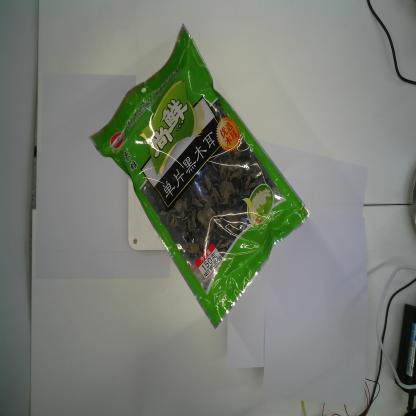Dried Food: (86, 19, 313, 332)
